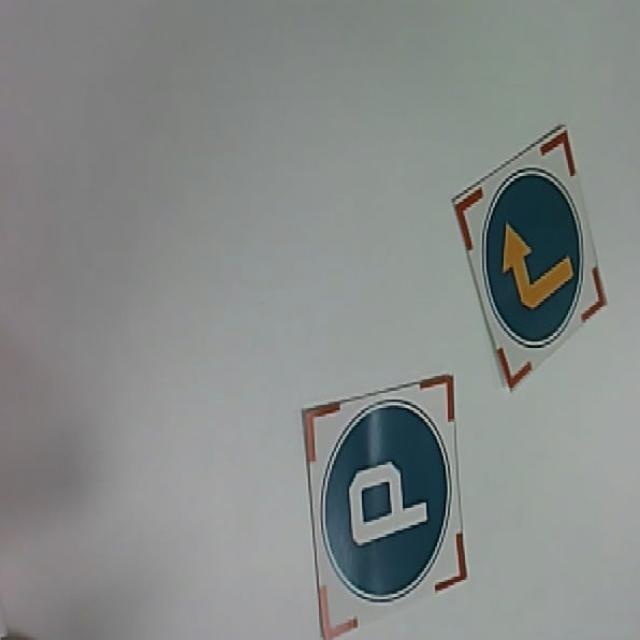parking: (302, 373, 468, 640)
turn: (452, 125, 608, 388)
